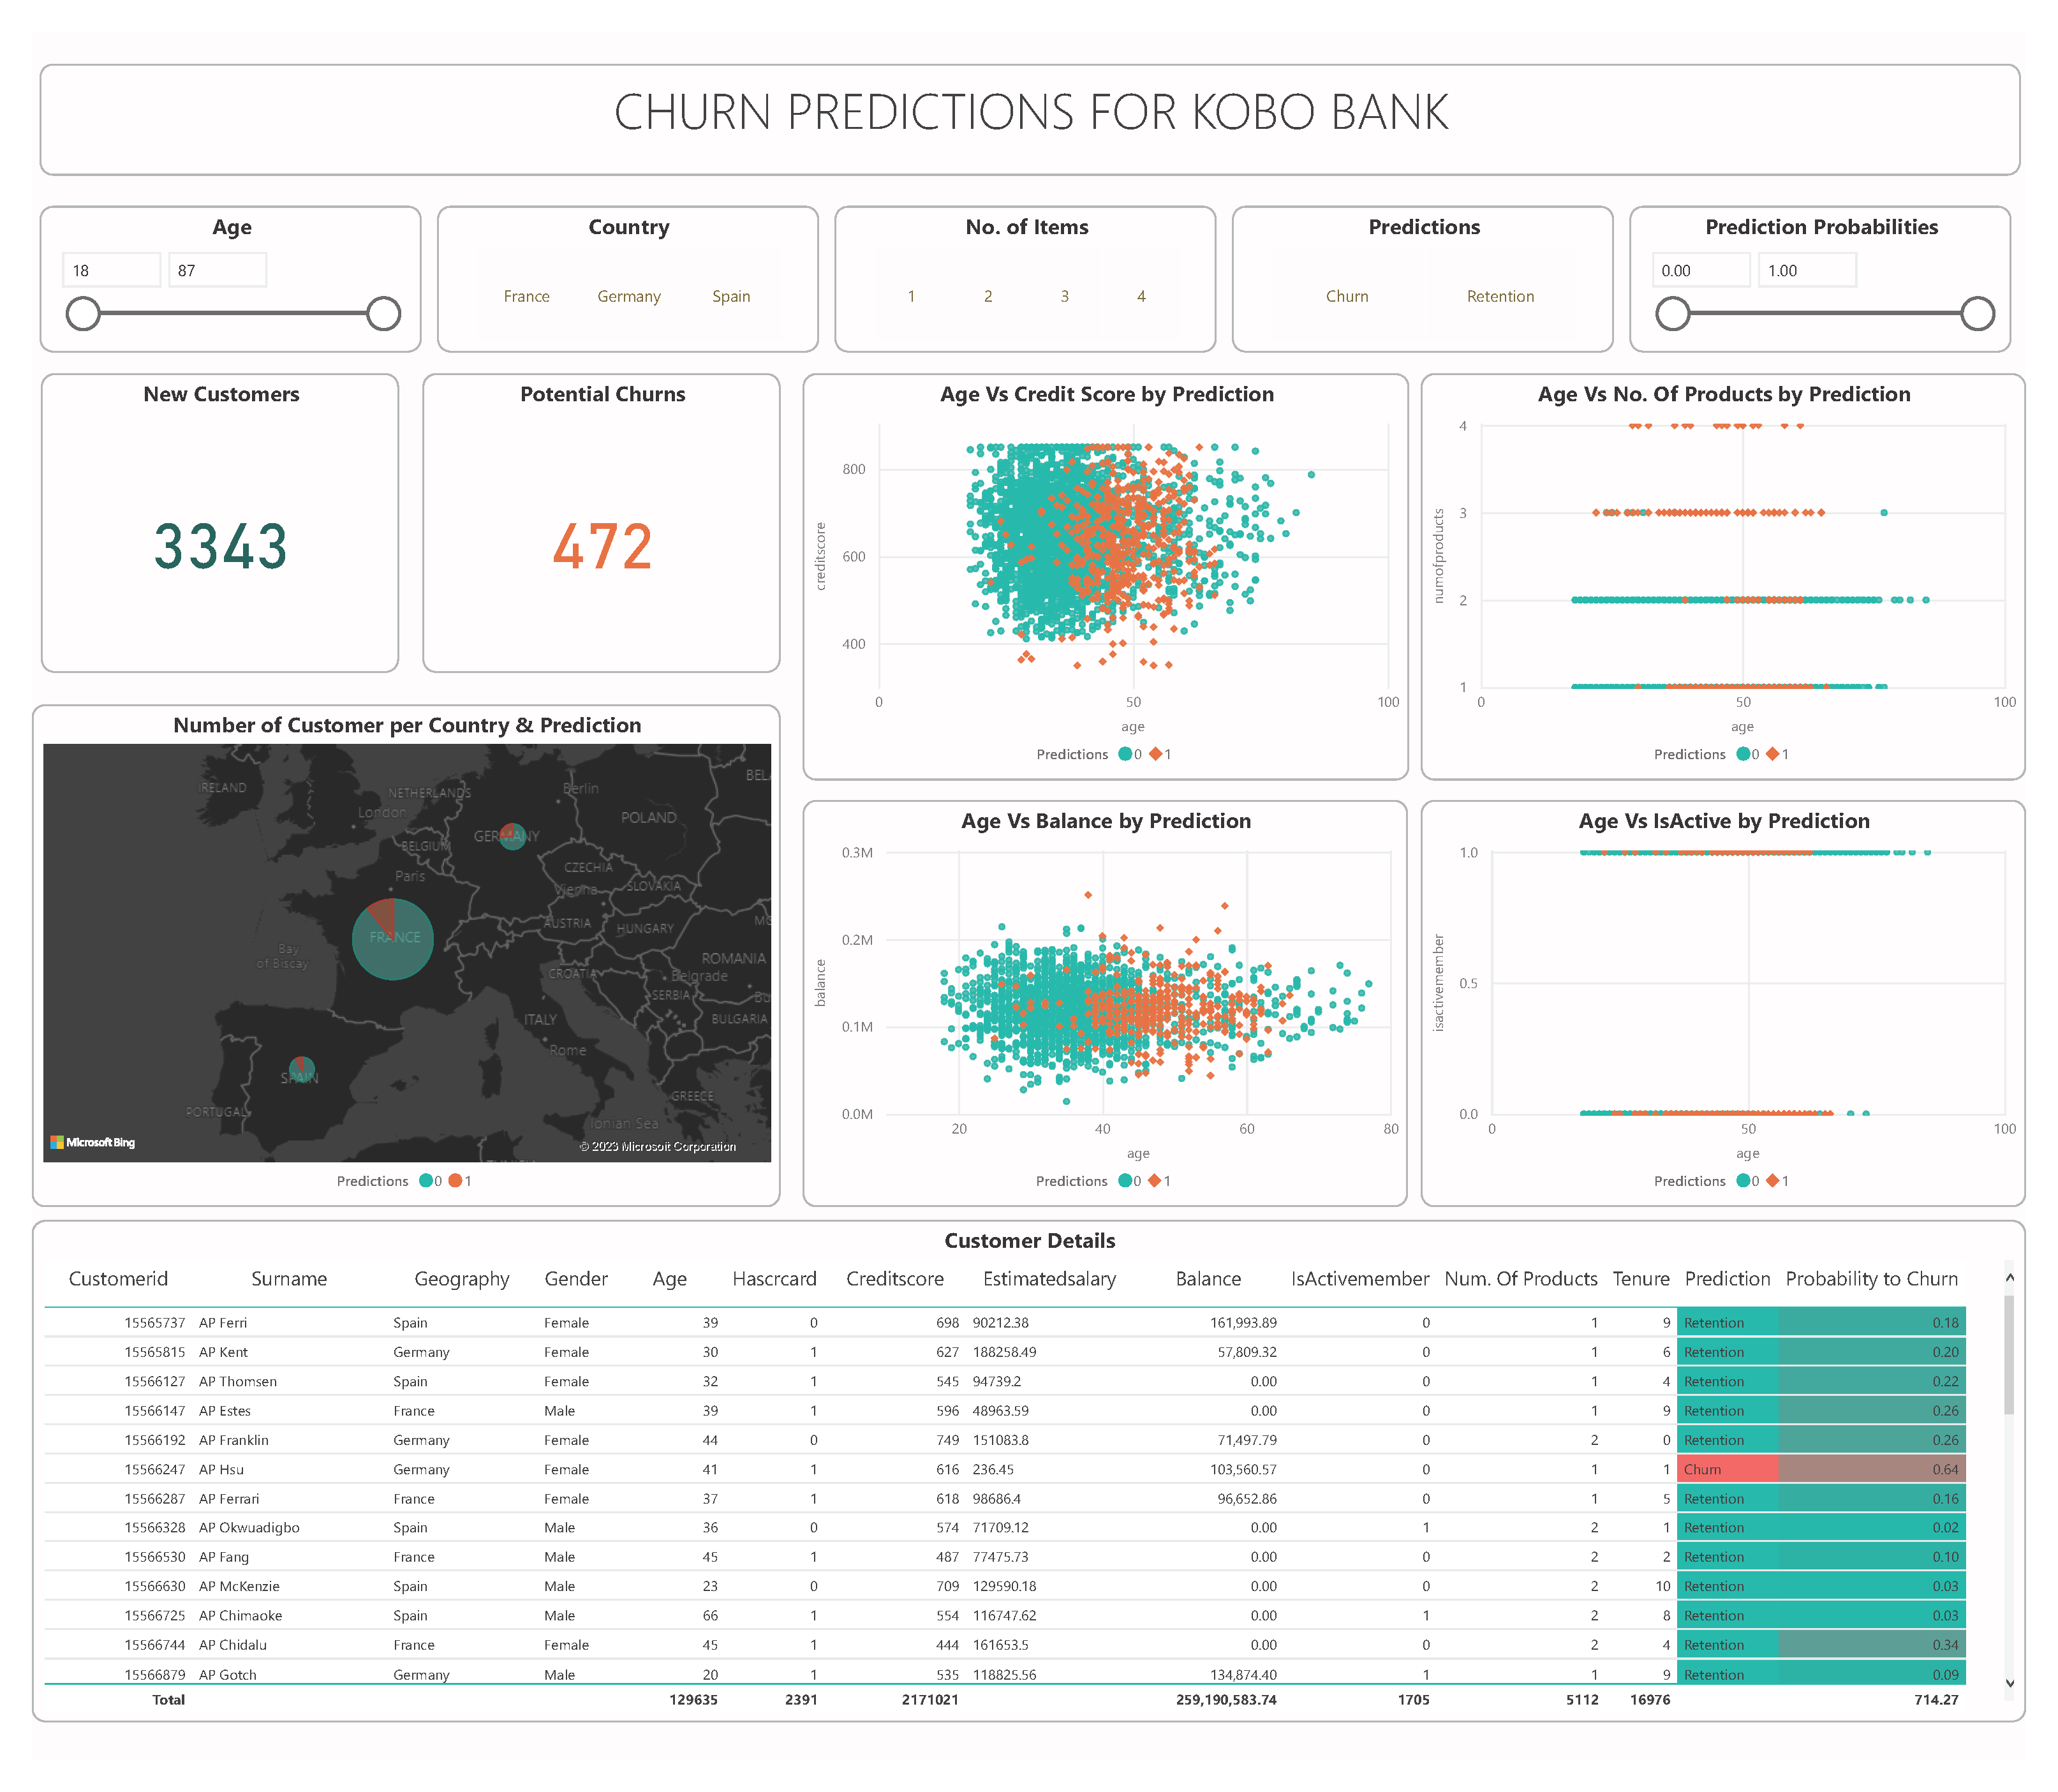

The page's visual inventory and layout, read from the dashboard file:
{"tool":"powerbi","page":{"name":"Page 1","canvas":[1500,1300],"ordinal":0},"visuals":[{"type":"textbox","box":[6.1,24.5,1489.8,83.7],"z":0},{"type":"slicer","title":"Age","fields":{"Values":["Churn Predictions Output 2.age"]},"box":[6.1,130.6,287,110.2],"z":1000},{"type":"slicer","title":"Country","fields":{"Values":["Churn Predictions Output 2.geography"]},"box":[305.1,130.6,287,110.2],"z":2000},{"type":"slicer","title":"No. of Items","fields":{"Values":["Churn Predictions Output 2.numofproducts"]},"box":[604.1,130.6,287,110.2],"z":3000},{"type":"slicer","title":"Predictions","fields":{"Values":["Churn Predictions Output 2.Predictions - Churn or Not Desc"]},"box":[903.1,130.6,287,110.2],"z":4000},{"type":"slicer","title":"Prediction Probabilities","fields":{"Values":["Churn Predictions Output 2.Predictions - Probability to Churn"]},"box":[1202,130.6,287,110.2],"z":5000},{"type":"card","title":"New Customers","fields":{"Values":["Churn Predictions Output 2.customerid"]},"box":[6.6,257.5,269,225],"z":6000},{"type":"card","title":"Potential Churns","fields":{"Values":["Churn Predictions Output 2.customerid"]},"box":[294,257.5,269.1,224.3],"z":7000},{"type":"scatterChart","title":"Age Vs Credit Score by Prediction","fields":{"X":["Churn Predictions Output 2.age"],"Y":["Churn Predictions Output 2.creditscore"],"Series":["Churn Predictions Output 2.Predictions - Churn or Not"],"Category":["Churn Predictions Output 2.customerid"]},"box":[579.7,257.5,456,306],"z":8000},{"type":"scatterChart","title":"Age Vs No. Of Products by Prediction","fields":{"X":["Churn Predictions Output 2.age"],"Series":["Churn Predictions Output 2.Predictions - Churn or Not"],"Category":["Churn Predictions Output 2.customerid"],"Y":["Churn Predictions Output 2.numofproducts"]},"box":[1044.9,257.1,455.1,306.1],"z":9000},{"type":"scatterChart","title":"Age Vs Balance by Prediction","fields":{"X":["Churn Predictions Output 2.age"],"Series":["Churn Predictions Output 2.Predictions - Churn or Not"],"Category":["Churn Predictions Output 2.customerid"],"Y":["Churn Predictions Output 2.balance"]},"box":[579.6,577.6,455.1,306.1],"z":10000},{"type":"scatterChart","title":"Age Vs IsActive by Prediction","fields":{"X":["Churn Predictions Output 2.age"],"Series":["Churn Predictions Output 2.Predictions - Churn or Not"],"Category":["Churn Predictions Output 2.customerid"],"Y":["Churn Predictions Output 2.isactivemember"]},"box":[1044.9,577.6,455.1,306.1],"z":11000},{"type":"map","title":"Number of Customer per Country & Prediction","fields":{"Category":["Churn Predictions Output 2.geography"],"Size":["Churn Predictions Output 2.customerid"],"Series":["Churn Predictions Output 2.Predictions - Churn or Not"]},"box":[0,506.1,563.3,377.6],"z":12000},{"type":"tableEx","title":"Customer Details","fields":{"Values":["Churn Predictions Output 2.customerid","Churn Predictions Output 2.surname","Churn Predictions Output 2.geography","Churn Predictions Output 2.gender","Churn Predictions Output 2.age","Churn Predictions Output 2.hascrcard","Churn Predictions Output 2.creditscore","Churn Predictions Output 2.estimatedsalary","Churn Predictions Output 2.balance","Churn Predictions Output 2.isactivemember","Churn Predictions Output 2.numofproducts","Churn Predictions Output 2.tenure"]},"box":[0,893.9,1500,377.6],"z":13000}]}

Visuals, with their boxes on the page's 1500x1300 design canvas (x1, y1, x2, y2). These are canvas units, not pixel positions in the 2058x1792 screenshot, which may show the page scaled, cropped or inside an application window:
textbox: locate(6, 24, 1496, 108)
"Age" slicer: locate(6, 131, 293, 241)
"Country" slicer: locate(305, 131, 592, 241)
"No. of Items" slicer: locate(604, 131, 891, 241)
"Predictions" slicer: locate(903, 131, 1190, 241)
"Prediction Probabilities" slicer: locate(1202, 131, 1489, 241)
"New Customers" card: locate(7, 258, 276, 482)
"Potential Churns" card: locate(294, 258, 563, 482)
"Age Vs Credit Score by Prediction" scatterChart: locate(580, 258, 1036, 564)
"Age Vs No. Of Products by Prediction" scatterChart: locate(1045, 257, 1500, 563)
"Age Vs Balance by Prediction" scatterChart: locate(580, 578, 1035, 884)
"Age Vs IsActive by Prediction" scatterChart: locate(1045, 578, 1500, 884)
"Number of Customer per Country & Prediction" map: locate(0, 506, 563, 884)
"Customer Details" tableEx: locate(0, 894, 1500, 1272)
